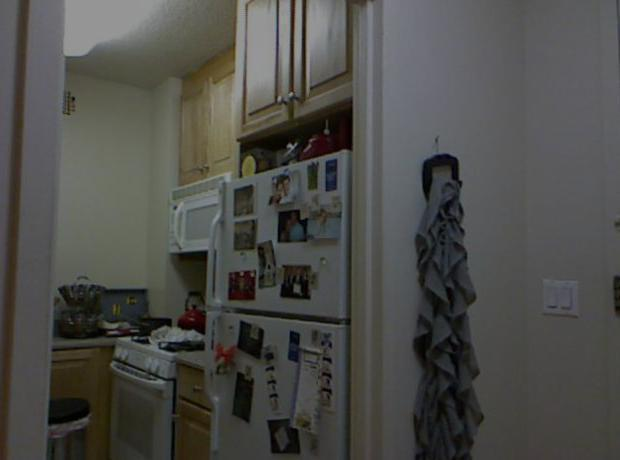Bote de Basura: (49, 395, 90, 455)
Electrodomestico: (210, 151, 350, 455), (107, 331, 175, 459)
